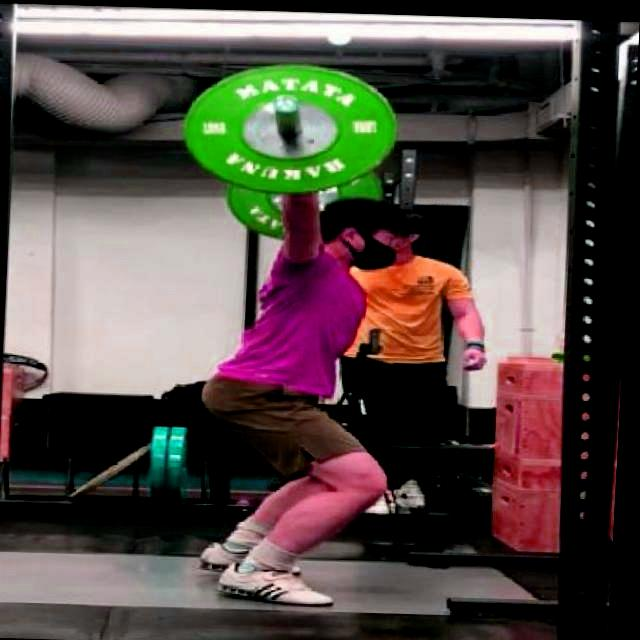barbell: (177, 58, 407, 201)
